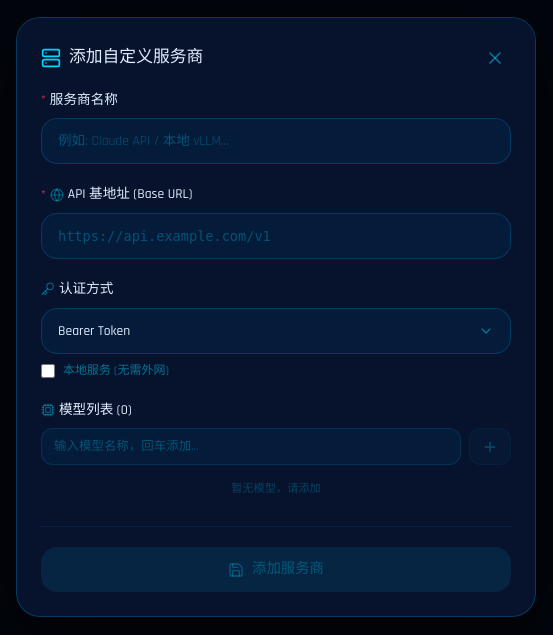
Test case: ProviderEditorModal › 模型列表管理 › Enter key adds model
Type "claude-3" into the field with placeholder "输入模型名称，回车添加..." at coordinates (251, 447), box x1=41 y1=428 x2=461 y2=465
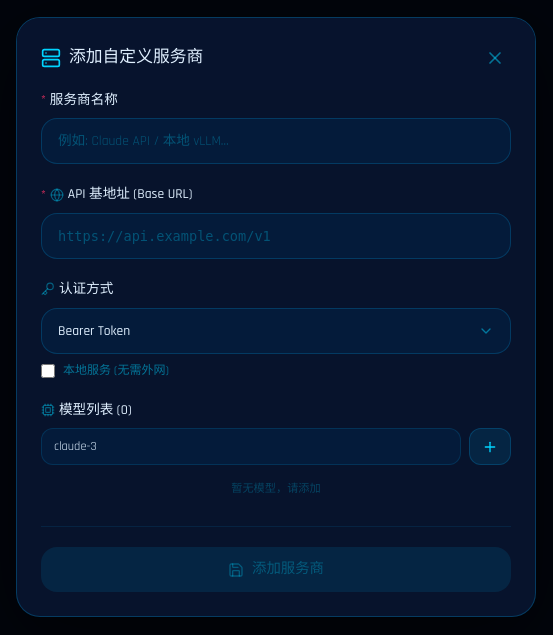
Press Enter in the field with placeholder "输入模型名称，回车添加...", box x1=41 y1=428 x2=461 y2=465
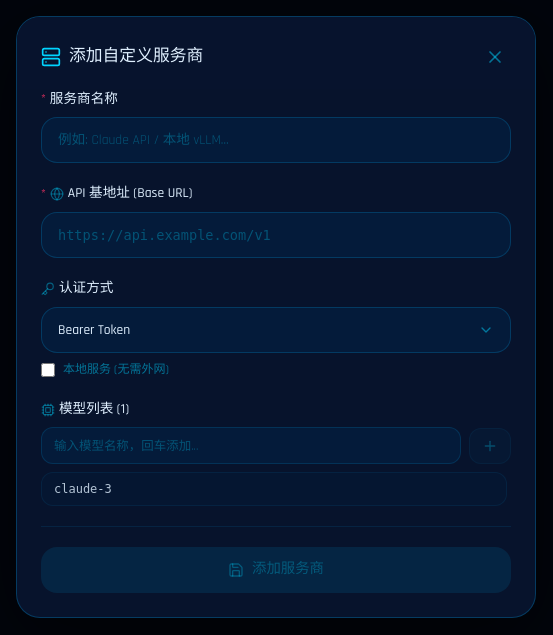
Result: the text "claude-3" is shown at x1=54 y1=480 x2=112 y2=498
